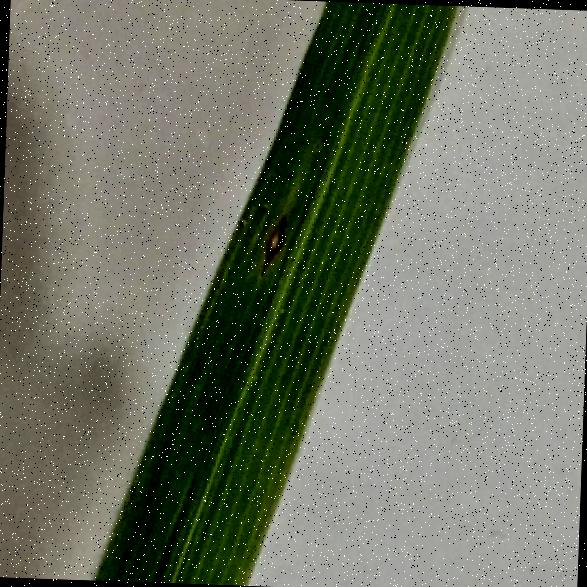Leaf_smut: (254, 208, 291, 286)
